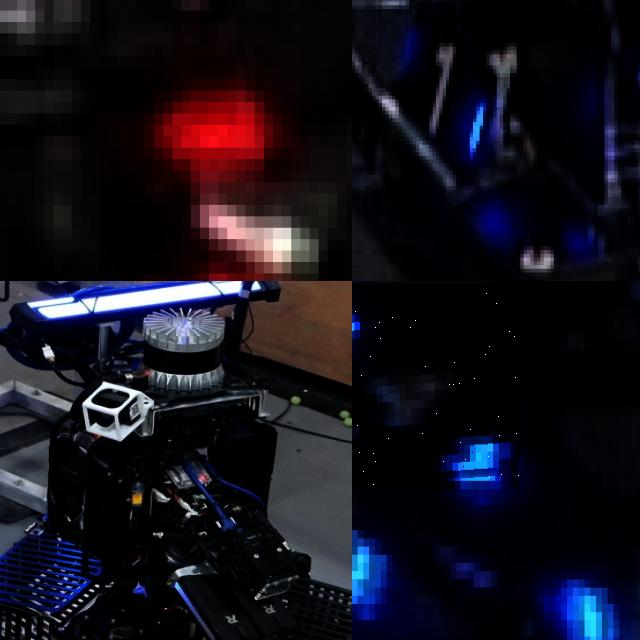B1: (389, 28, 500, 171)
B4: (352, 284, 520, 489), (543, 530, 640, 640), (352, 460, 381, 591)
